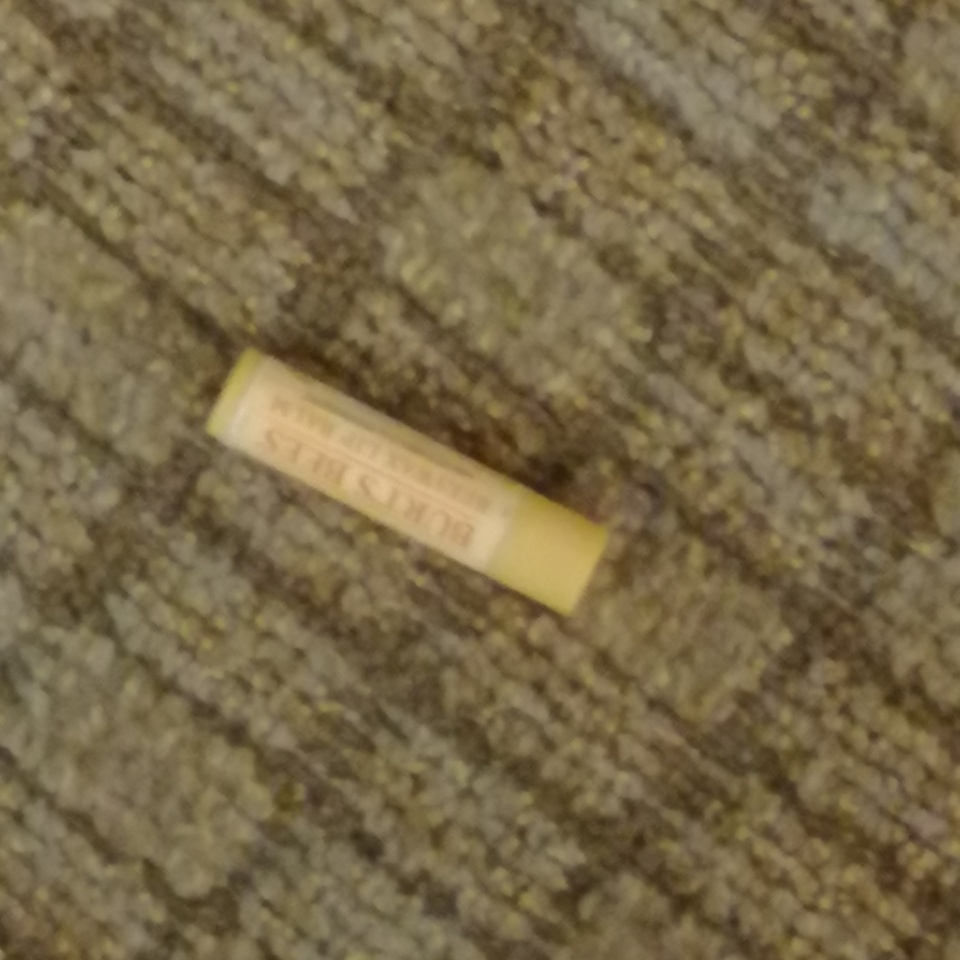chapstick: (200, 342, 618, 623)
